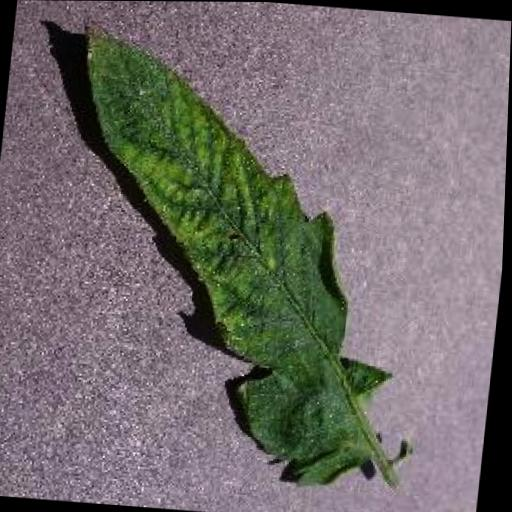Mosaic Virus: (37, 14, 428, 493)
